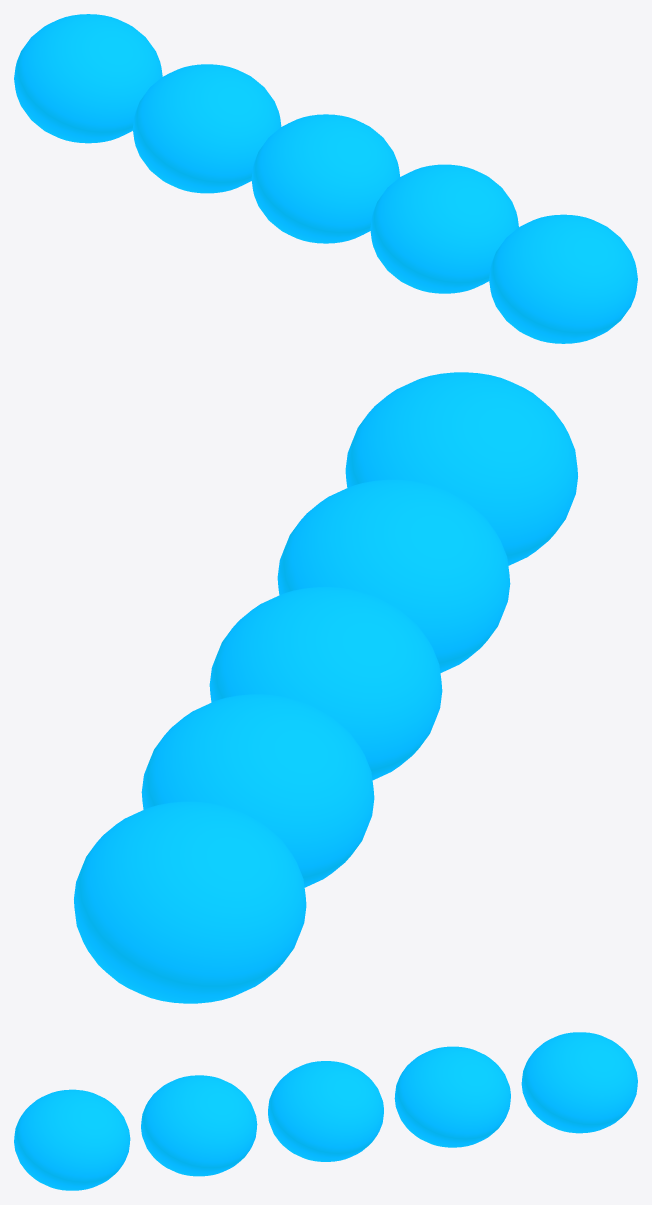
Rendered from tanks.gltf.
3 renders of one model, top to bottom at view 1: azimuth 30°, elevation 25°; view 2: azimuth 150°, elevation 25°; view 3: azimuth 270°, elevation 25°, orthographic. The views are drawn at different scales.
Visible parts, largest first — view 1: tanks; view 2: tanks; view 3: tanks.
Part boxes in pixels (left/top/right/bottom): tanks: left=14, top=14, right=637, bottom=343; tanks: left=74, top=372, right=577, bottom=1003; tanks: left=14, top=1032, right=637, bottom=1190.
Bounding box in the file's own units: 36.72 × 14.23 × 90.72.
